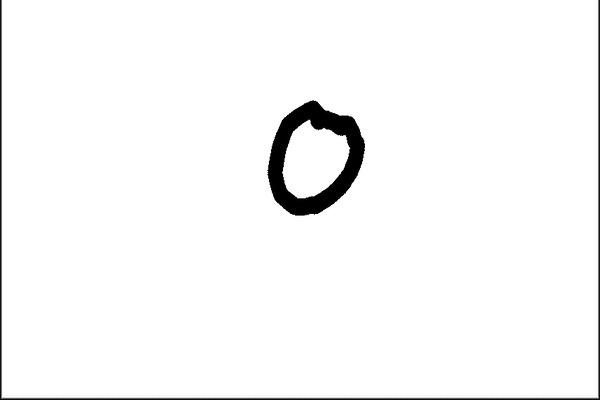O: (260, 88, 363, 217)
